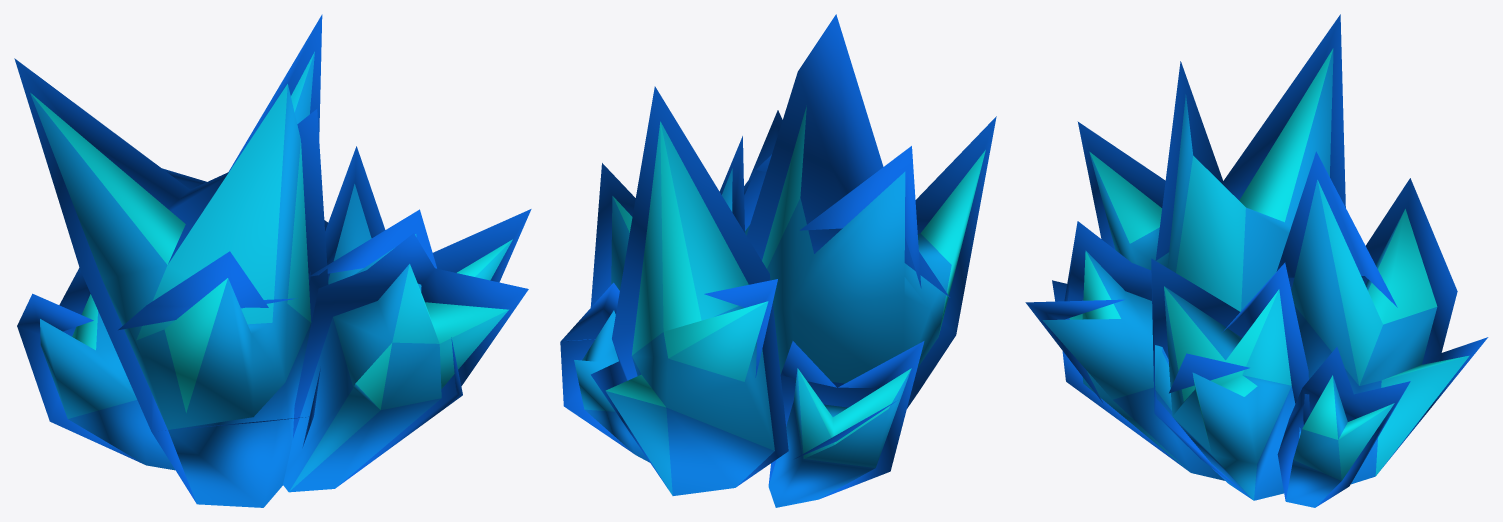
File: natureuniverse_azuritetier3_azuritetier3_original.glb
The picture shows the model from 3 angles, left to right: view 1: azimuth 30°, elevation 25°; view 2: azimuth 150°, elevation 25°; view 3: azimuth 270°, elevation 25°; orthographic projection. The views are drawn at different scales.
Visible parts, largest first — view 1: AzuriteTier3; view 2: AzuriteTier3; view 3: AzuriteTier3.
Boxes of the visible parts, x1,y1,x2,y2 form: AzuriteTier3: (14, 14, 531, 507); AzuriteTier3: (560, 14, 996, 507); AzuriteTier3: (1025, 14, 1488, 507).
Size of the model in its own units: 2.45 by 2.5 by 2.69.
1 material, 1 textured.
